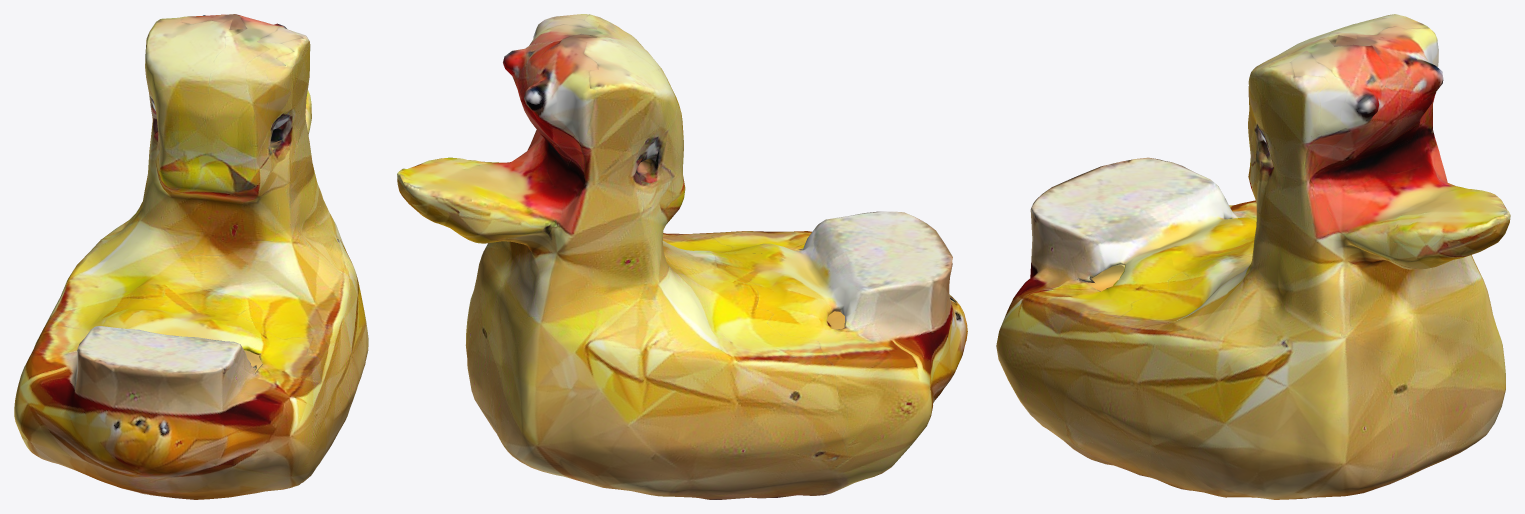
The model's file is meshy_api_rubber_ducky2.glb.
3 renders of one model, left to right at view 1: azimuth 30°, elevation 25°; view 2: azimuth 150°, elevation 25°; view 3: azimuth 270°, elevation 25°, orthographic. The views are drawn at different scales.
Bounding box in the file's own units: 0.9977 × 1 × 0.9975.
1 material, 1 textured.
